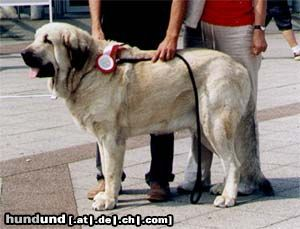mastin_espanol: (21, 22, 274, 212)
person: (87, 0, 186, 203), (176, 0, 267, 194)
